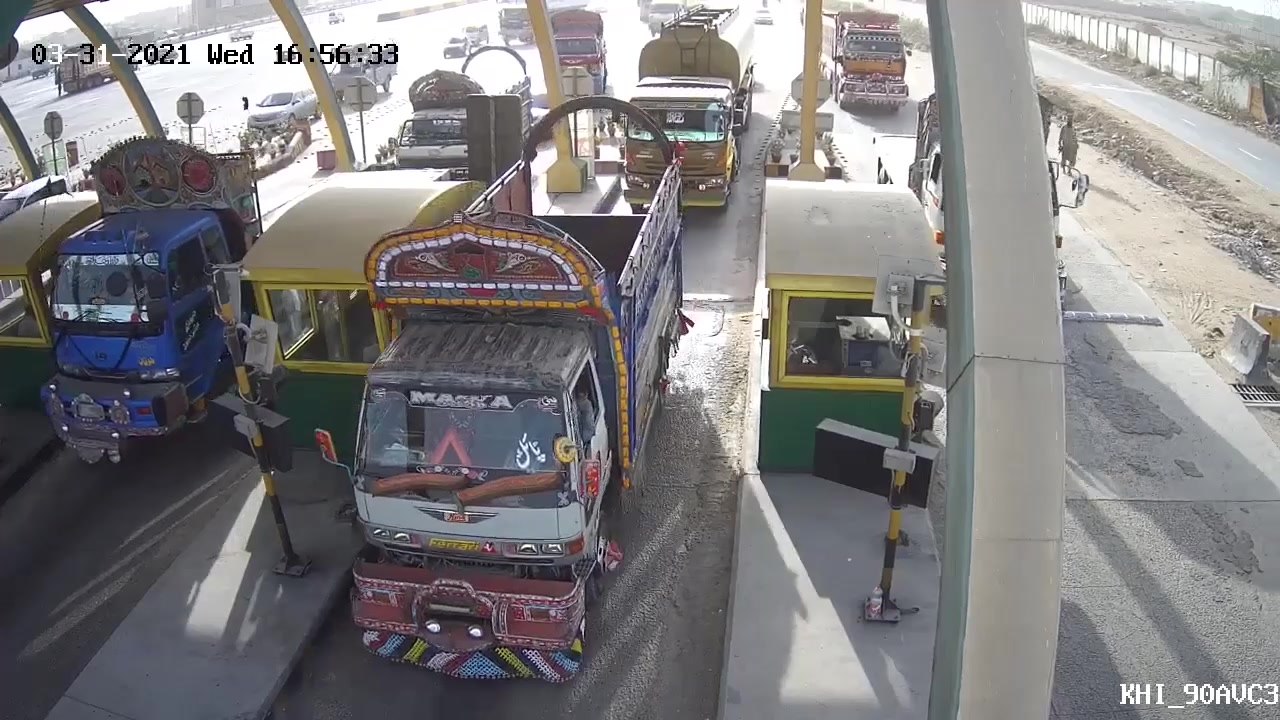F5: (321, 93, 702, 681)
